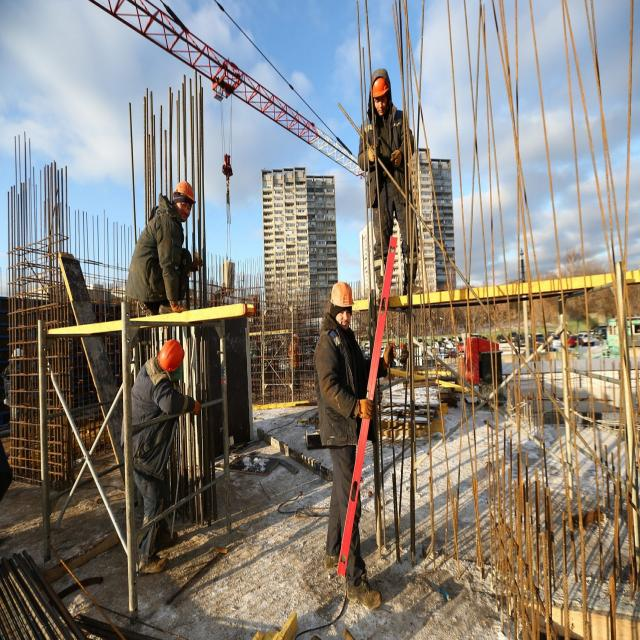Helmet: (158, 340, 186, 371), (331, 284, 356, 310), (174, 182, 198, 205), (373, 81, 388, 100)
NoJacket: (321, 321, 357, 444), (138, 209, 186, 292), (134, 374, 172, 474), (372, 106, 405, 193)
